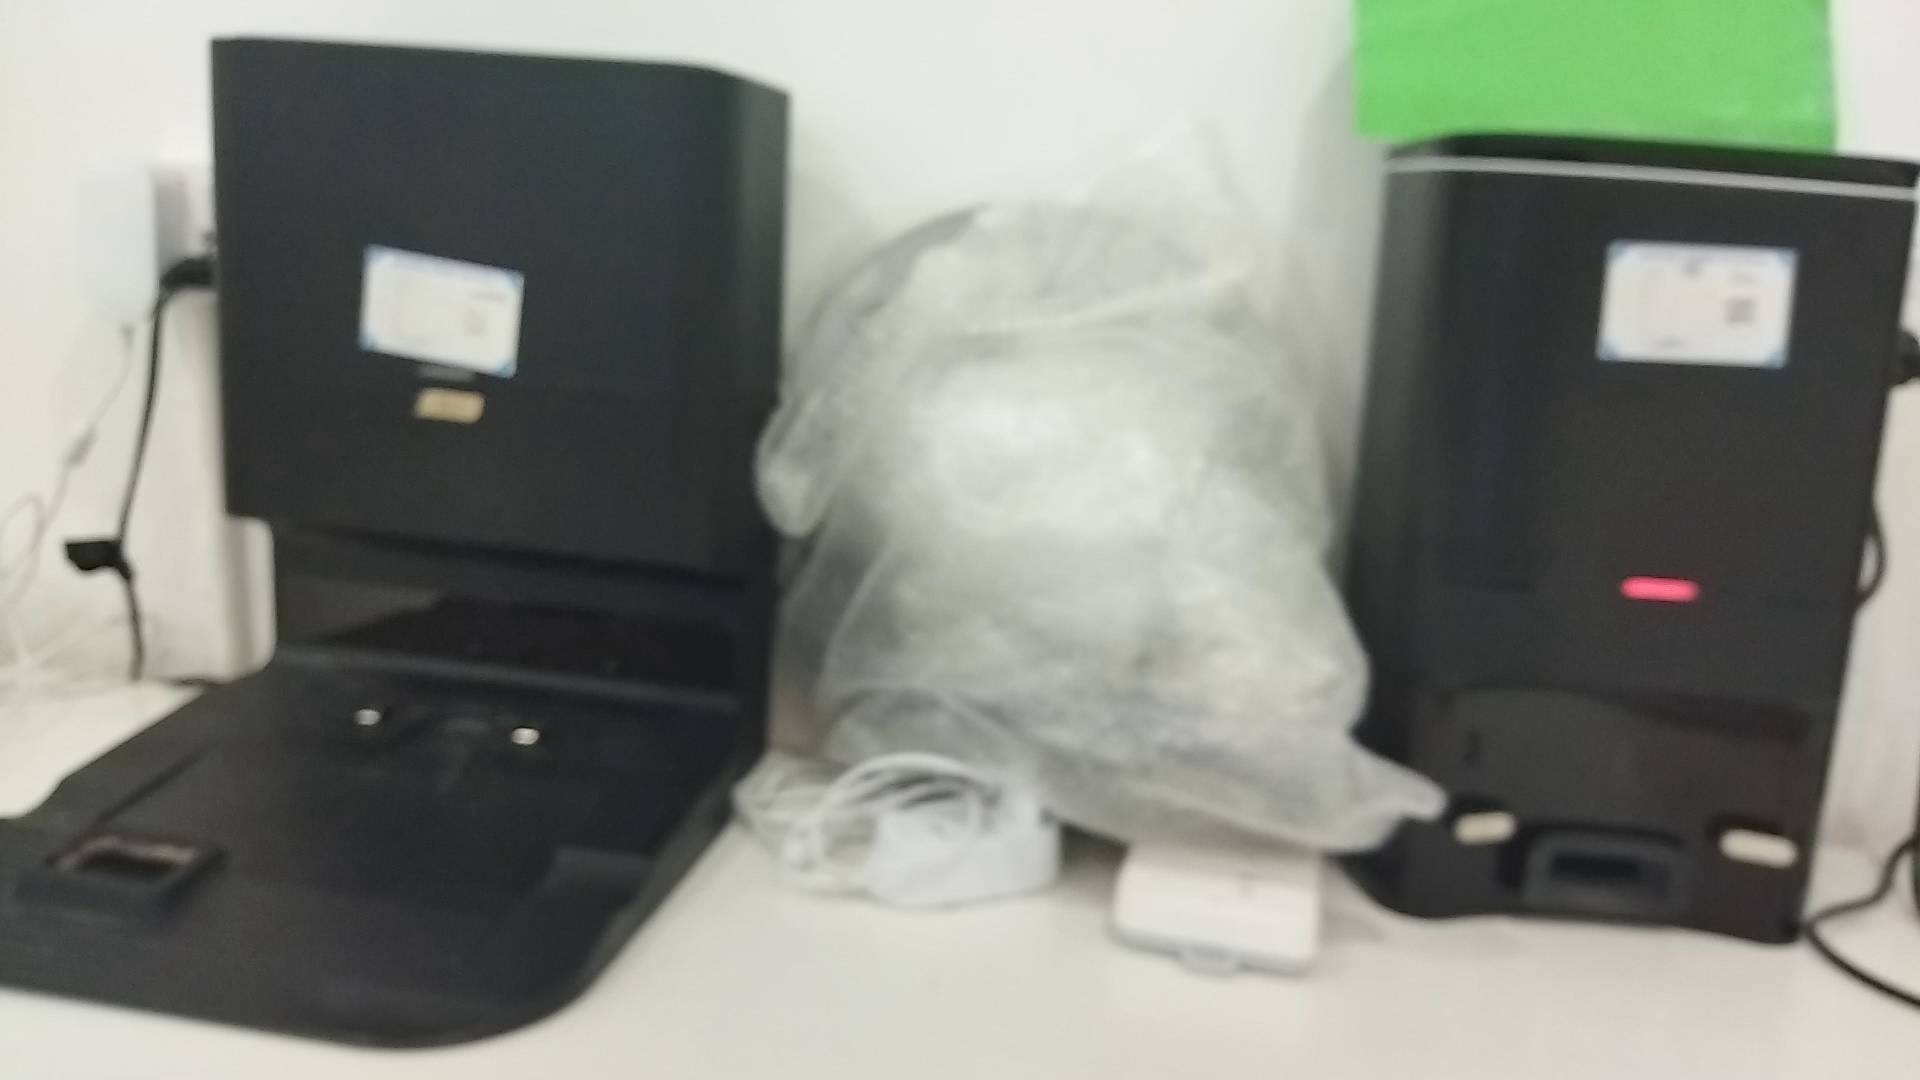dust collecting barrel: (1, 34, 791, 1056), (1333, 135, 1920, 947)
